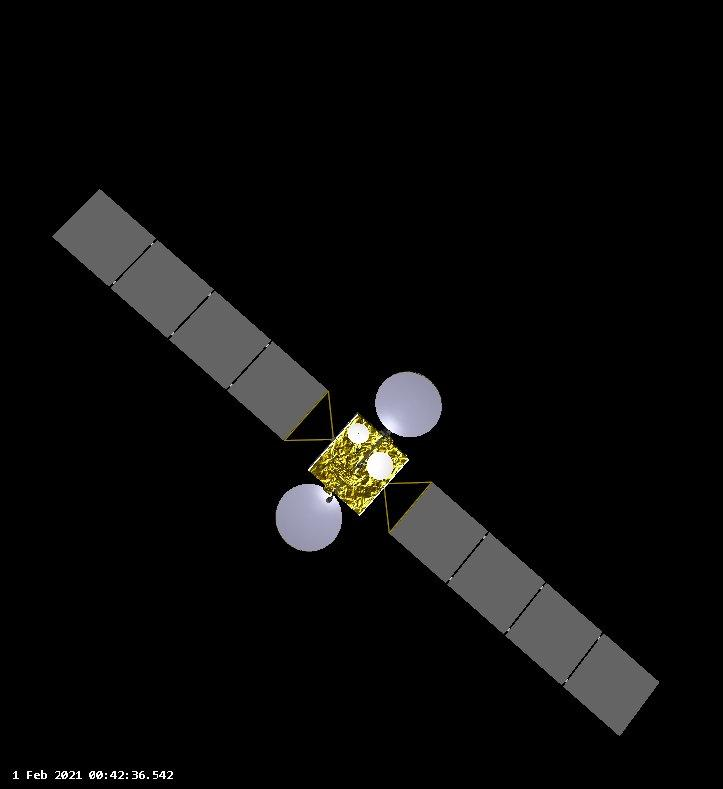antenna: (273, 482, 345, 554), (373, 369, 444, 439), (364, 450, 396, 481), (346, 421, 371, 445)
body: (306, 410, 412, 519)
solar: (49, 186, 331, 442), (387, 480, 662, 740)
